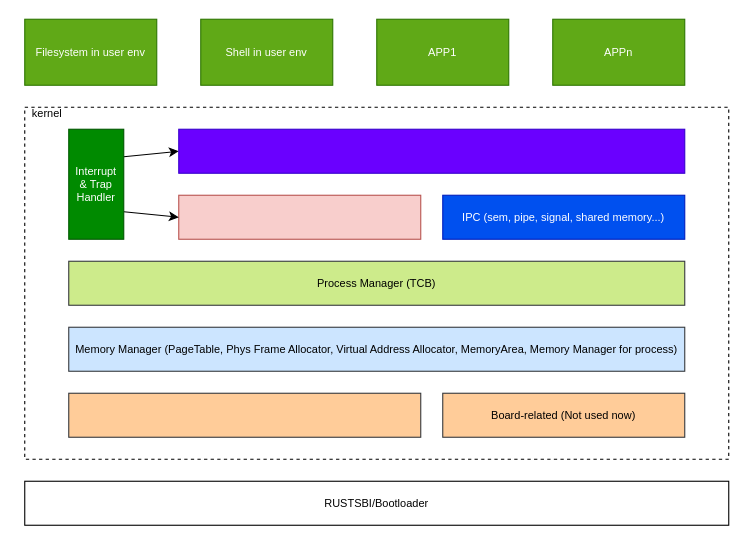
This 748x545 diagram has some shape labels left out. Each missing label, with the centre of its shape:
Arch-related features (linker scripts, entry assembly...): the point at 244,414
Scheduler (Task Switch, Round-robin): the point at 299,216
syscall handler: the point at 431,150
